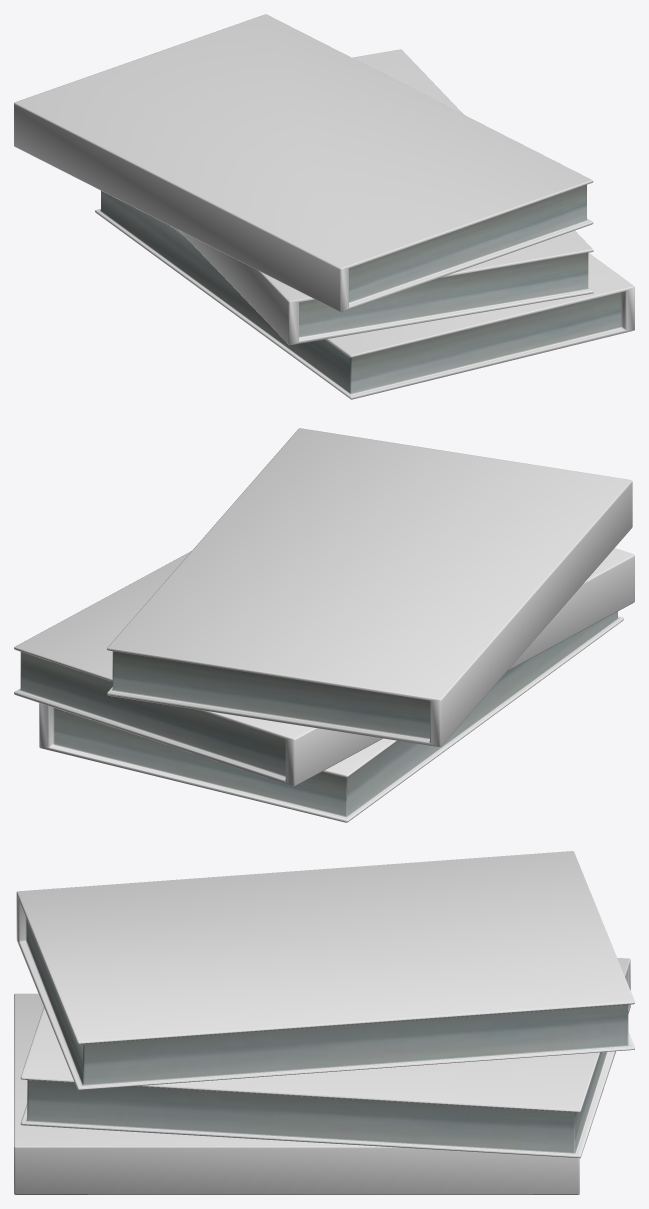
File: books.fbx
3 renders of one model, top to bottom at view 1: azimuth 30°, elevation 25°; view 2: azimuth 150°, elevation 25°; view 3: azimuth 270°, elevation 25°, orthographic. The views are drawn at different scales.
Parts seen in each view (by area): view 1: Book (Hobbit)with a pen.002, Books, Book with a pen.003; view 2: Book (Hobbit)with a pen.002, Book with a pen.003, Books; view 3: Book (Hobbit)with a pen.002, Book with a pen.003, Books.
Part boxes in pixels (x1,y1,x2,y2): Book (Hobbit)with a pen.002: (14, 14, 593, 312); Books: (95, 191, 634, 399); Book with a pen.003: (179, 49, 593, 345); Book (Hobbit)with a pen.002: (107, 428, 632, 746); Book with a pen.003: (14, 548, 634, 786); Books: (39, 611, 623, 822); Book (Hobbit)with a pen.002: (16, 851, 634, 1090); Book with a pen.003: (20, 958, 630, 1158); Books: (14, 993, 579, 1194).
Size of the model in its own units: 18.53 by 6 by 23.06.
Materials: 4 (1 with a texture image).
